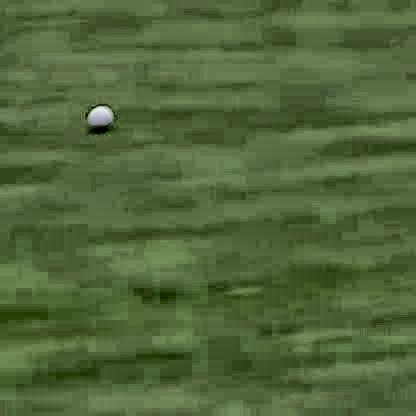golfball: (85, 101, 113, 131)
